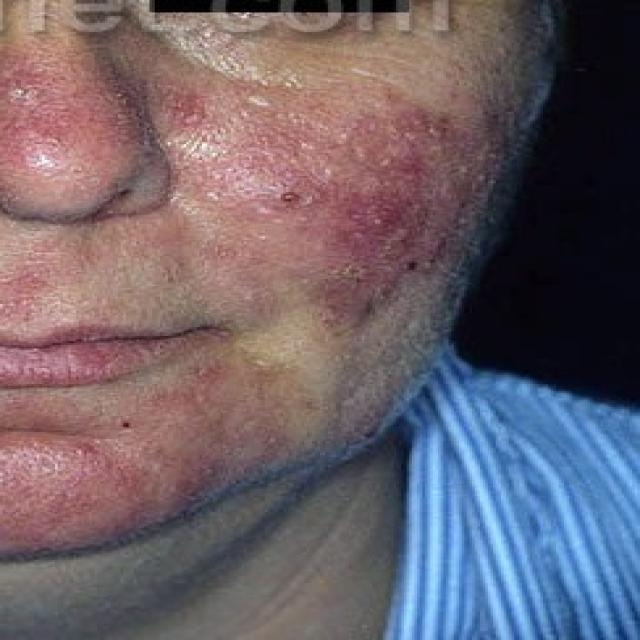Rosacea: (281, 110, 453, 320)
